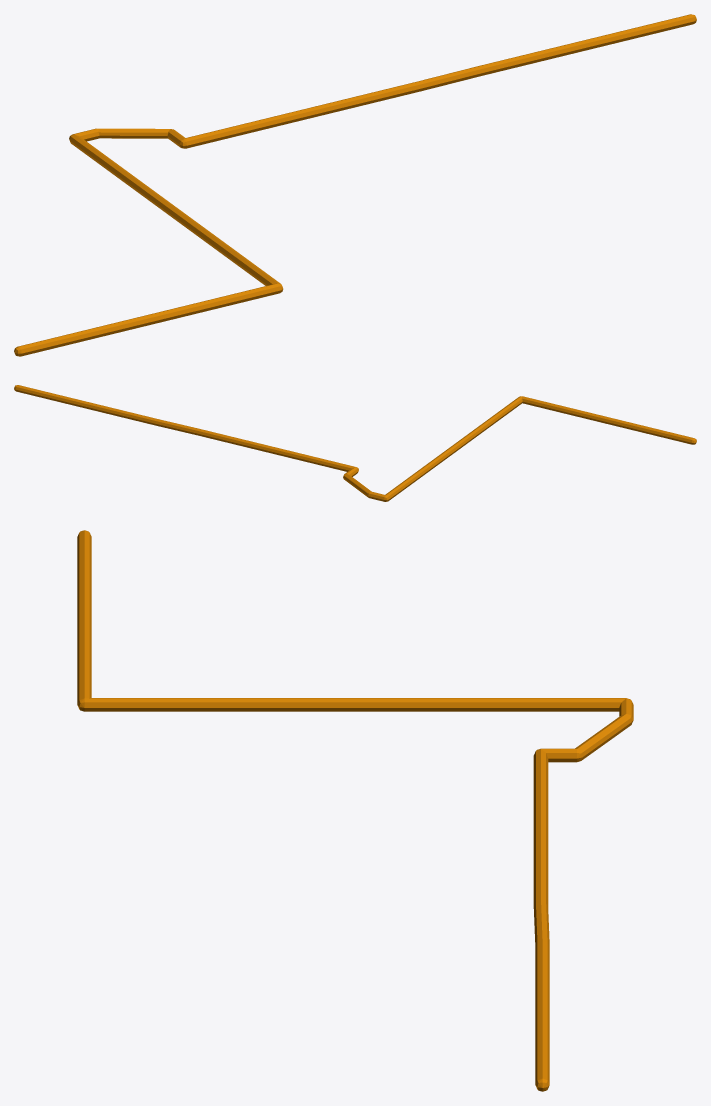
The picture shows the model from 3 angles, top to bottom: view 1: azimuth 30°, elevation 25°; view 2: azimuth 150°, elevation 25°; view 3: azimuth 270°, elevation 25°; orthographic projection. The views are drawn at different scales.
Bounding box in the file's own units: 1815 × 20 × 770.
